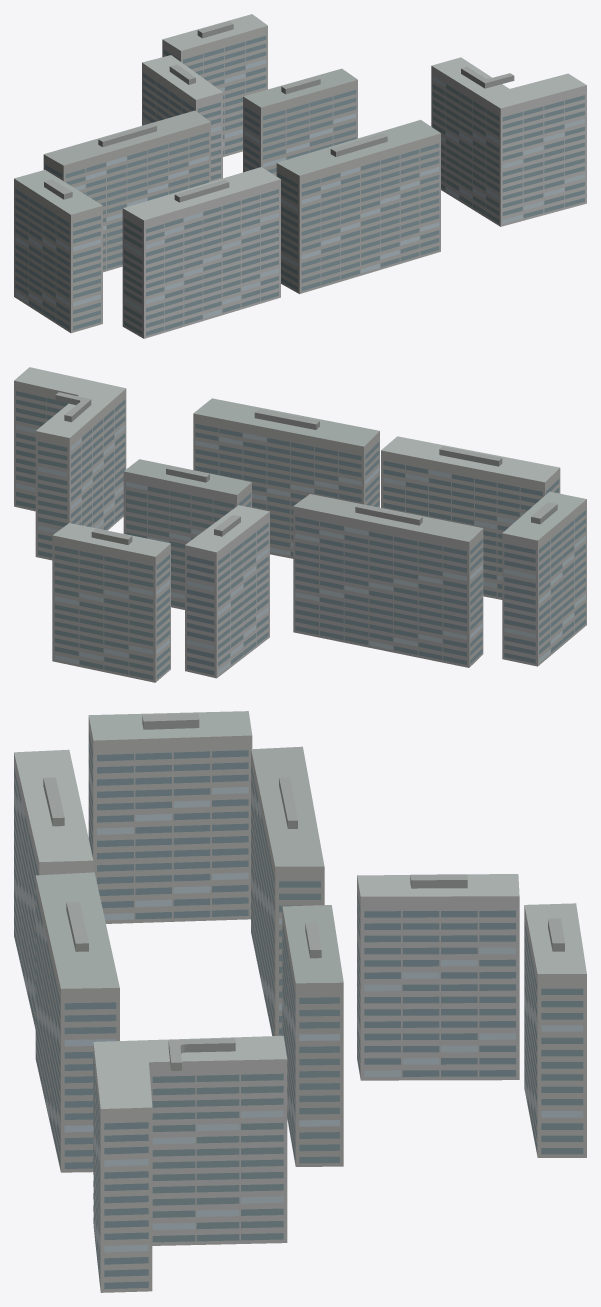
Rendered from apt-a13286106.glb.
3 renders of one model, top to bottom at view 1: azimuth 30°, elevation 25°; view 2: azimuth 150°, elevation 25°; view 3: azimuth 270°, elevation 25°, orthographic. The views are drawn at different scales.
Parts seen in each view (by area): view 1: apt-a13286106; view 2: apt-a13286106; view 3: apt-a13286106.
Boxes of the visible parts, x1,y1,x2,y2 form: apt-a13286106: [14, 14, 586, 338]; apt-a13286106: [14, 367, 586, 682]; apt-a13286106: [14, 711, 586, 1292].
Bounding box in the file's own units: 212 × 47.81 × 129.
